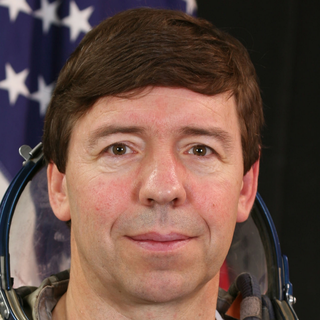eye: (96, 139, 144, 163), (178, 139, 223, 164)
